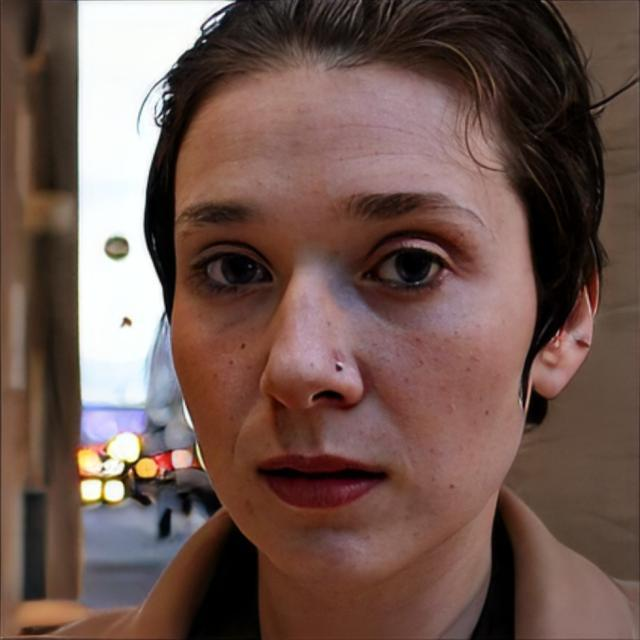surprise: (168, 58, 536, 598)
